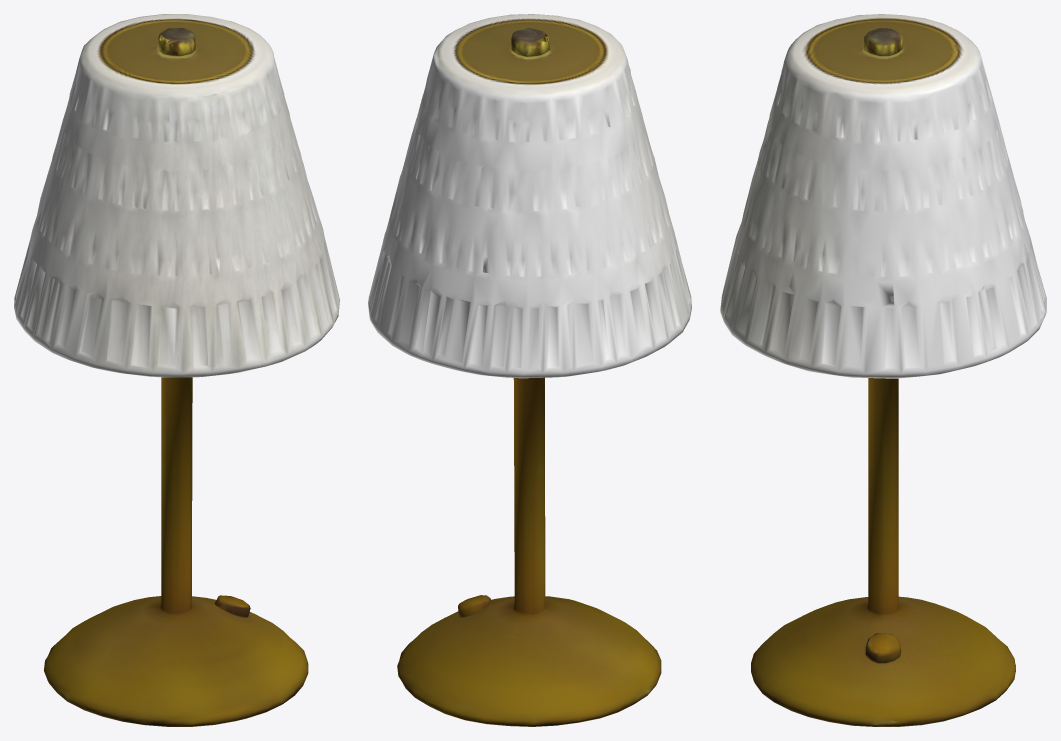
File: tablecentre_lamp_tablehieght_0227135638_texture.glb
3 renders of one model, left to right at view 1: azimuth 30°, elevation 25°; view 2: azimuth 150°, elevation 25°; view 3: azimuth 270°, elevation 25°, orthographic.
Visible parts, largest first — view 1: Mesh_0.007; view 2: Mesh_0.007; view 3: Mesh_0.007.
Boxes of the visible parts, left/top/right/bottom form: Mesh_0.007: left=14, top=14, right=339, bottom=726; Mesh_0.007: left=368, top=14, right=691, bottom=726; Mesh_0.007: left=720, top=14, right=1046, bottom=726.
Bounding box in the file's own units: 0.1529 × 0.3302 × 0.1529.
Materials: 1 (1 with a texture image).
